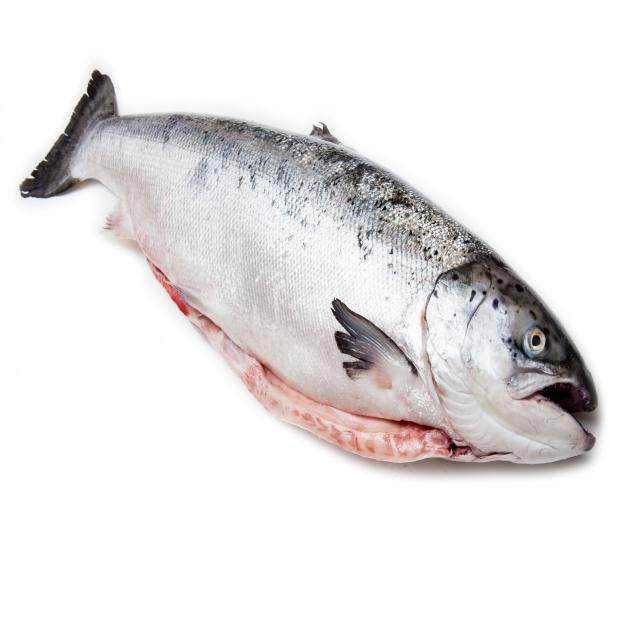fish: (19, 70, 597, 462)
